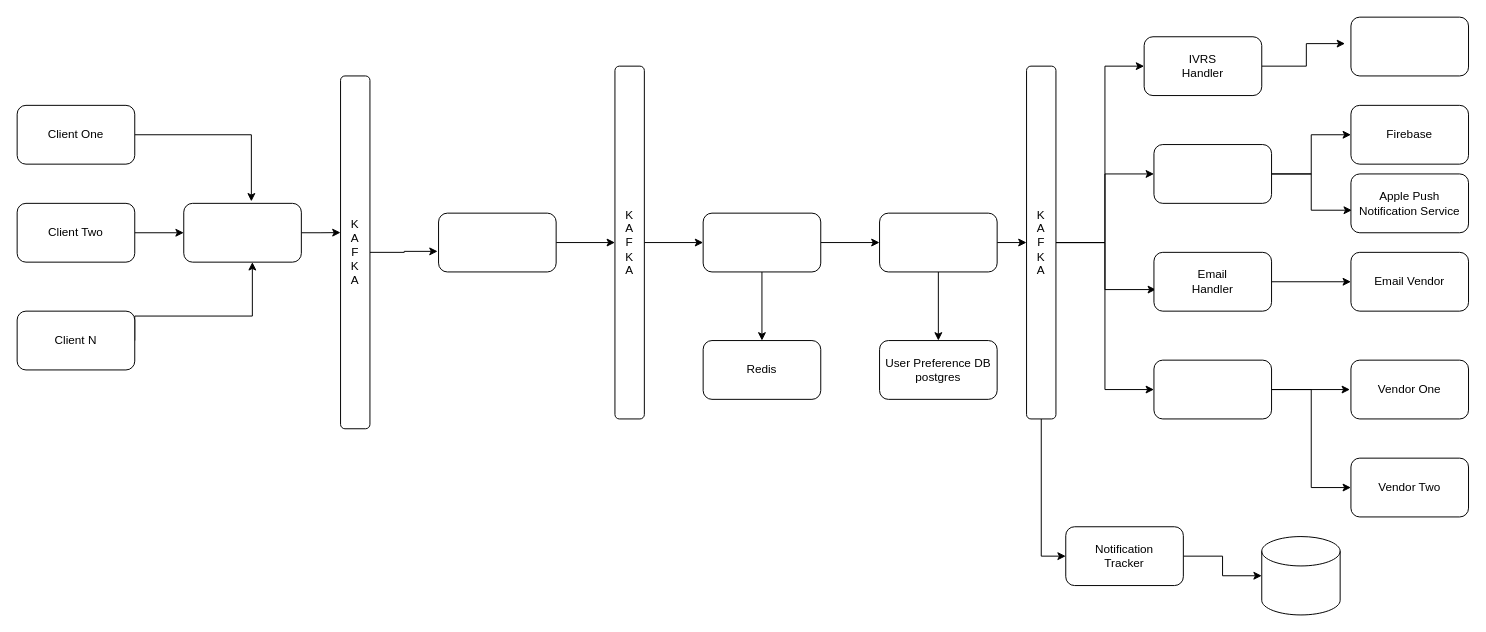
Some shapes in this 1486 by 632 pixel diagram are drawn without their labels. Here are the shapes that lost their labels. From the top down, the box of each, then its label:
(1350, 16, 1469, 76): IVRS Vendor
(1153, 144, 1272, 203): In App Notification Handler
(183, 202, 301, 262): Notification Service
(438, 212, 556, 272): Validator and Prioritizer Service
(702, 212, 821, 272): Rate Limiter & Register Counter
(879, 212, 997, 272): Notification Handler & User Preference
(1153, 359, 1272, 419): SMS Handler
(1261, 536, 1340, 615): Cassandra
